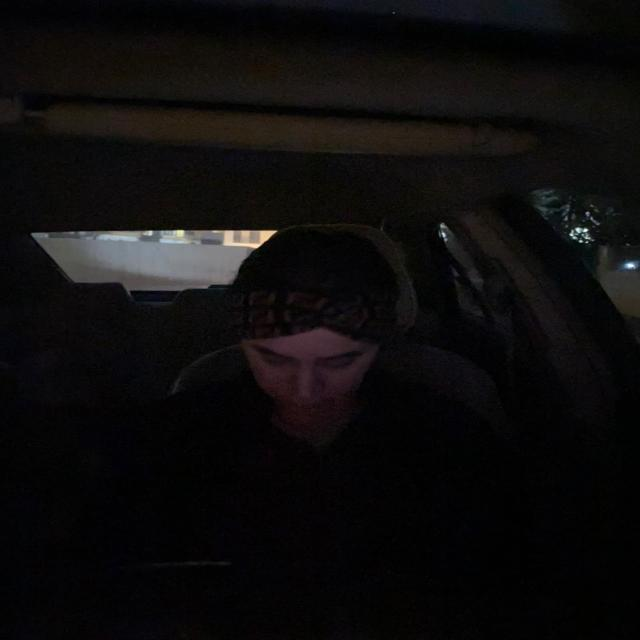drowsy: (214, 229, 399, 432)
